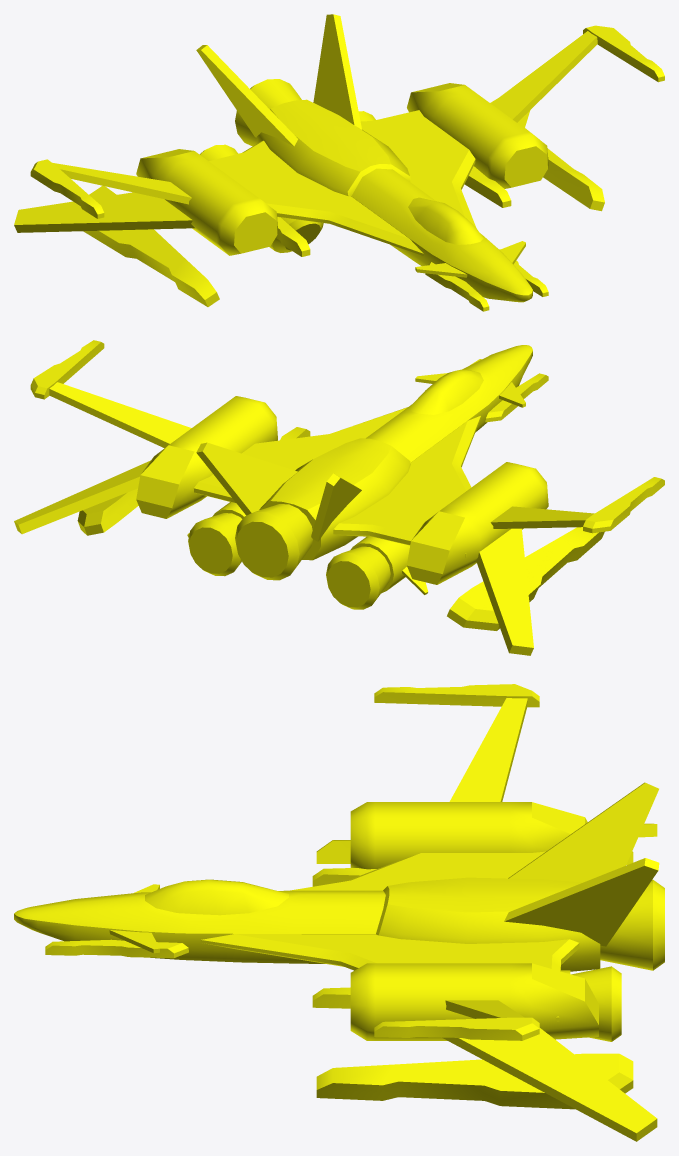
File: StarSparrow01.obj
The picture shows the model from 3 angles, top to bottom: view 1: azimuth 30°, elevation 25°; view 2: azimuth 150°, elevation 25°; view 3: azimuth 270°, elevation 25°; orthographic projection. The views are drawn at different scales.
Parts seen in each view (by area): view 1: StarSparrow01_Mesh.117; view 2: StarSparrow01_Mesh.117; view 3: StarSparrow01_Mesh.117.
Part boxes in pixels (left/top/right/bottom): StarSparrow01_Mesh.117: left=14, top=14, right=664, bottom=311; StarSparrow01_Mesh.117: left=14, top=340, right=664, bottom=655; StarSparrow01_Mesh.117: left=14, top=684, right=664, bottom=1141.
Bounding box in the file's own units: 13.64 × 3.26 × 10.85.
